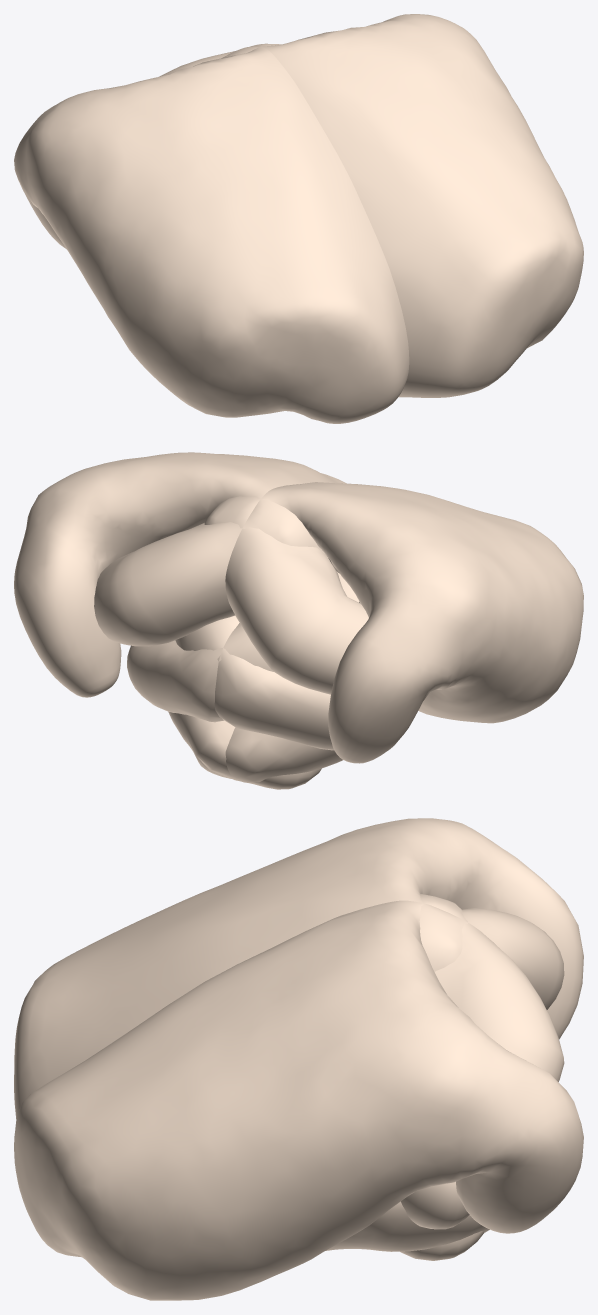
The model's file is hands_fists.glb.
3 views of the same model, one above another, from view 1: azimuth 30°, elevation 25°; view 2: azimuth 150°, elevation 25°; view 3: azimuth 270°, elevation 25° (orthographic). The views are drawn at different scales.
Visible parts, largest first — view 1: right_hand, left_hand; view 2: right_hand, left_hand; view 3: left_hand, right_hand.
Part boxes in pixels (bbox=[...]): right_hand: bbox=[14, 44, 409, 423]; left_hand: bbox=[222, 14, 583, 397]; right_hand: bbox=[168, 482, 583, 789]; left_hand: bbox=[14, 452, 359, 782]; left_hand: bbox=[14, 894, 583, 1300]; right_hand: bbox=[14, 818, 583, 1251].
Size of the model in its own units: 0.1287 by 0.0781 by 0.1164.
